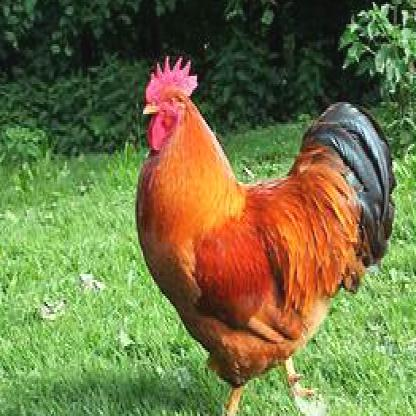chicken: (134, 56, 398, 414)
